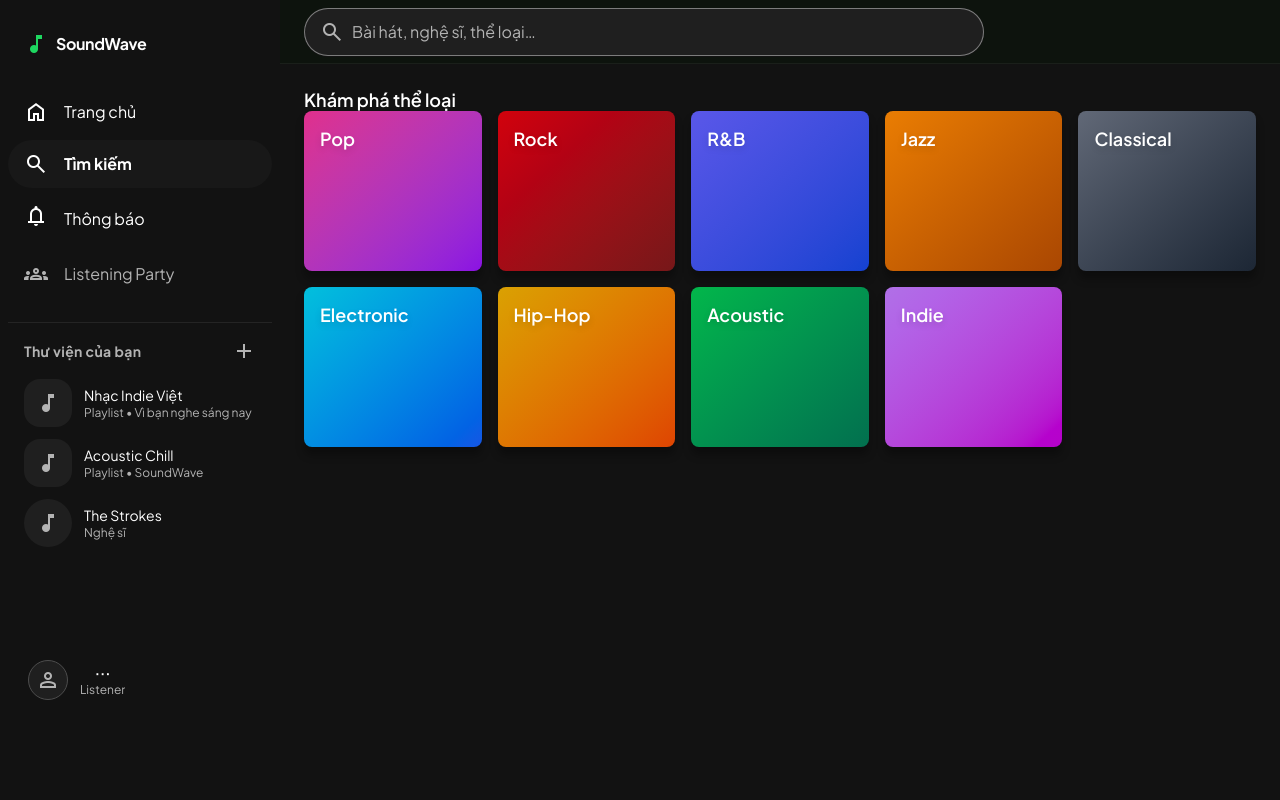
Test case: SearchPage — clear query › shows clear button when query is typed
This screenshot has width=1280, height=800.
Type "test" into the field named "tìm kiếm" at (644,32), box [304, 8, 984, 56]
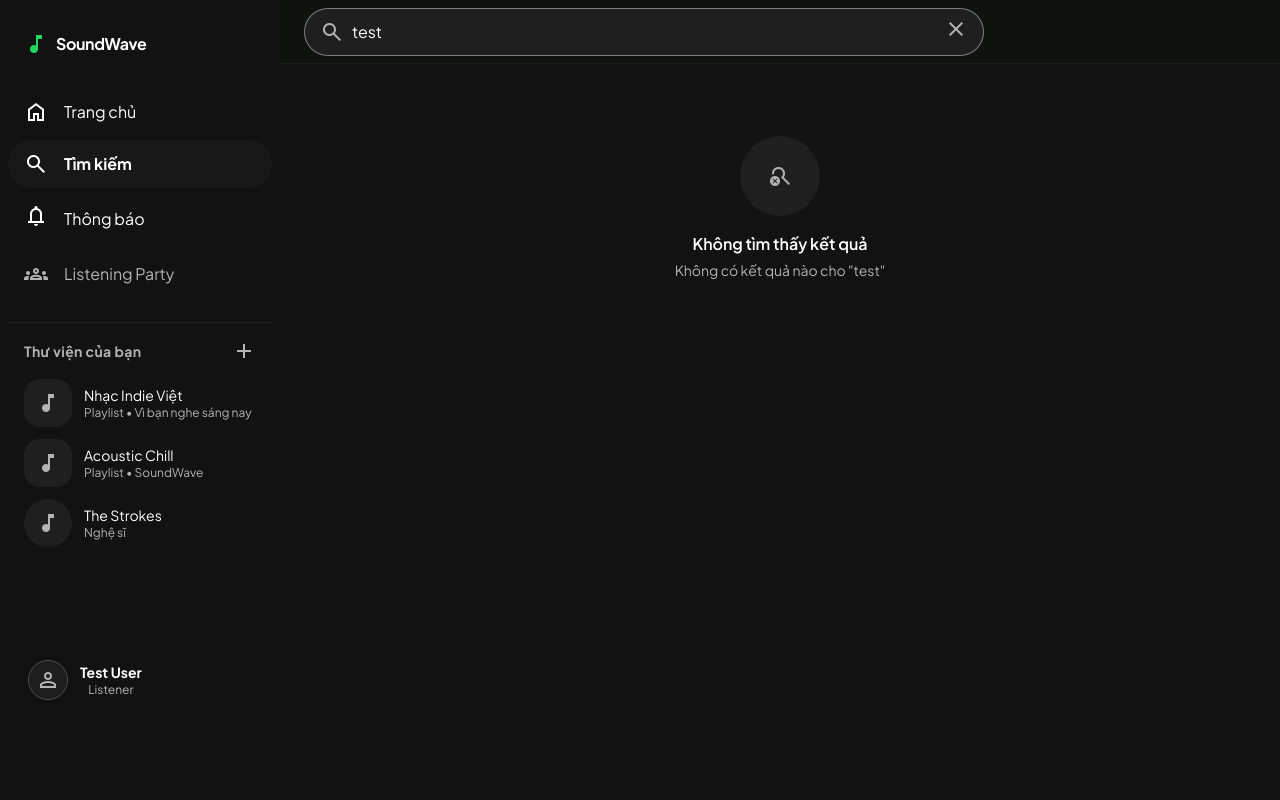
Expected: the button named "xóa tìm kiếm" is shown, [944, 16, 968, 46]
